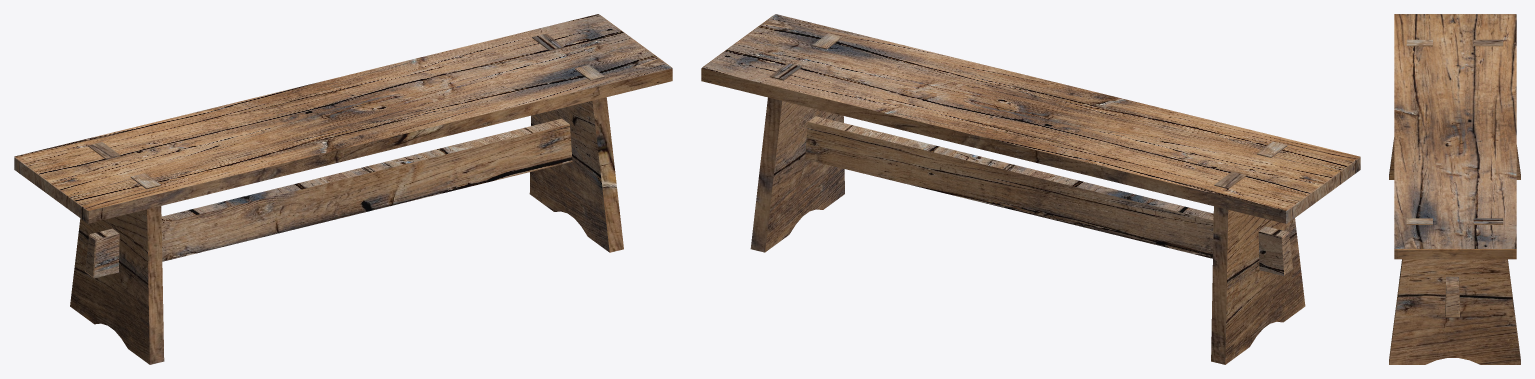
The model's file is Bench FBX.fbx.
3 renders of one model, left to right at view 1: azimuth 30°, elevation 25°; view 2: azimuth 150°, elevation 25°; view 3: azimuth 270°, elevation 25°, orthographic. The views are drawn at different scales.
Visible parts, largest first — view 1: Cube; view 2: Cube; view 3: Cube.
Part boxes in pixels (x1,y1,x2,y2): Cube: [14, 14, 672, 364]; Cube: [701, 14, 1360, 364]; Cube: [1389, 14, 1520, 364].
Bounding box in the file's own units: 191 × 51.96 × 45.09.
1 material, 1 textured.
